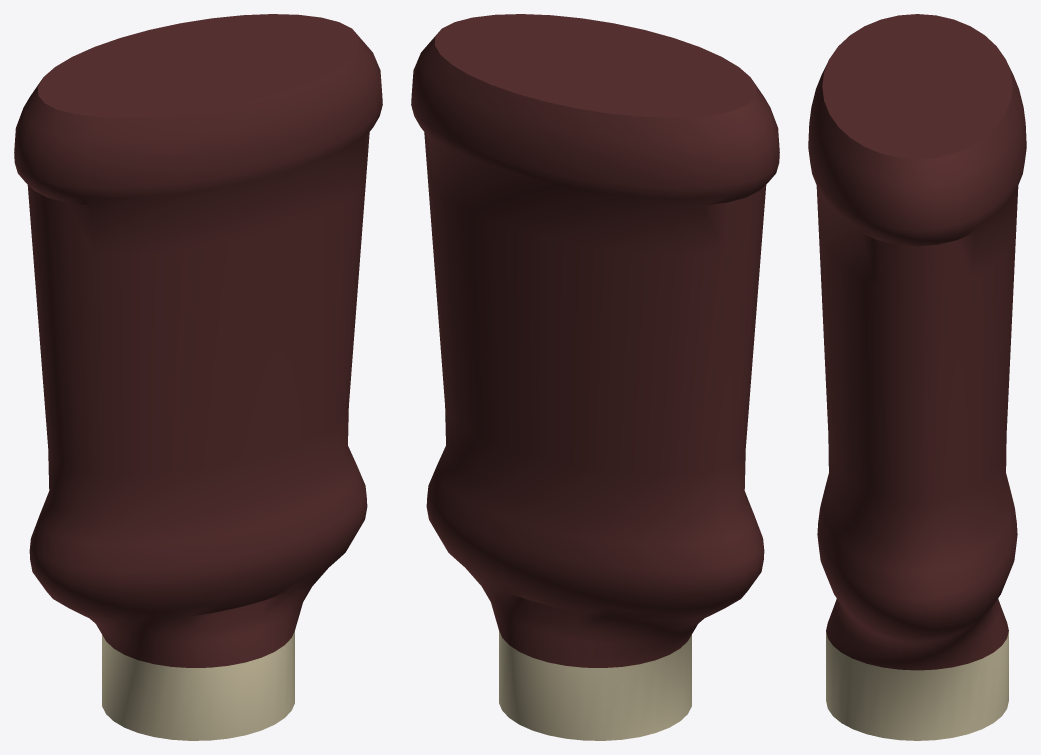
The model's file is Ketchup.fbx.
The picture shows the model from 3 angles, left to right: view 1: azimuth 30°, elevation 25°; view 2: azimuth 150°, elevation 25°; view 3: azimuth 270°, elevation 25°; orthographic projection. The views are drawn at different scales.
Visible parts, largest first — view 1: Ketchup; view 2: Ketchup; view 3: Ketchup.
Part boxes in pixels (left/top/right/bottom): Ketchup: left=14, top=14, right=382, bottom=740; Ketchup: left=411, top=14, right=779, bottom=740; Ketchup: left=808, top=14, right=1026, bottom=740.
Bounding box in the file's own units: 105 × 180 × 58.05.
